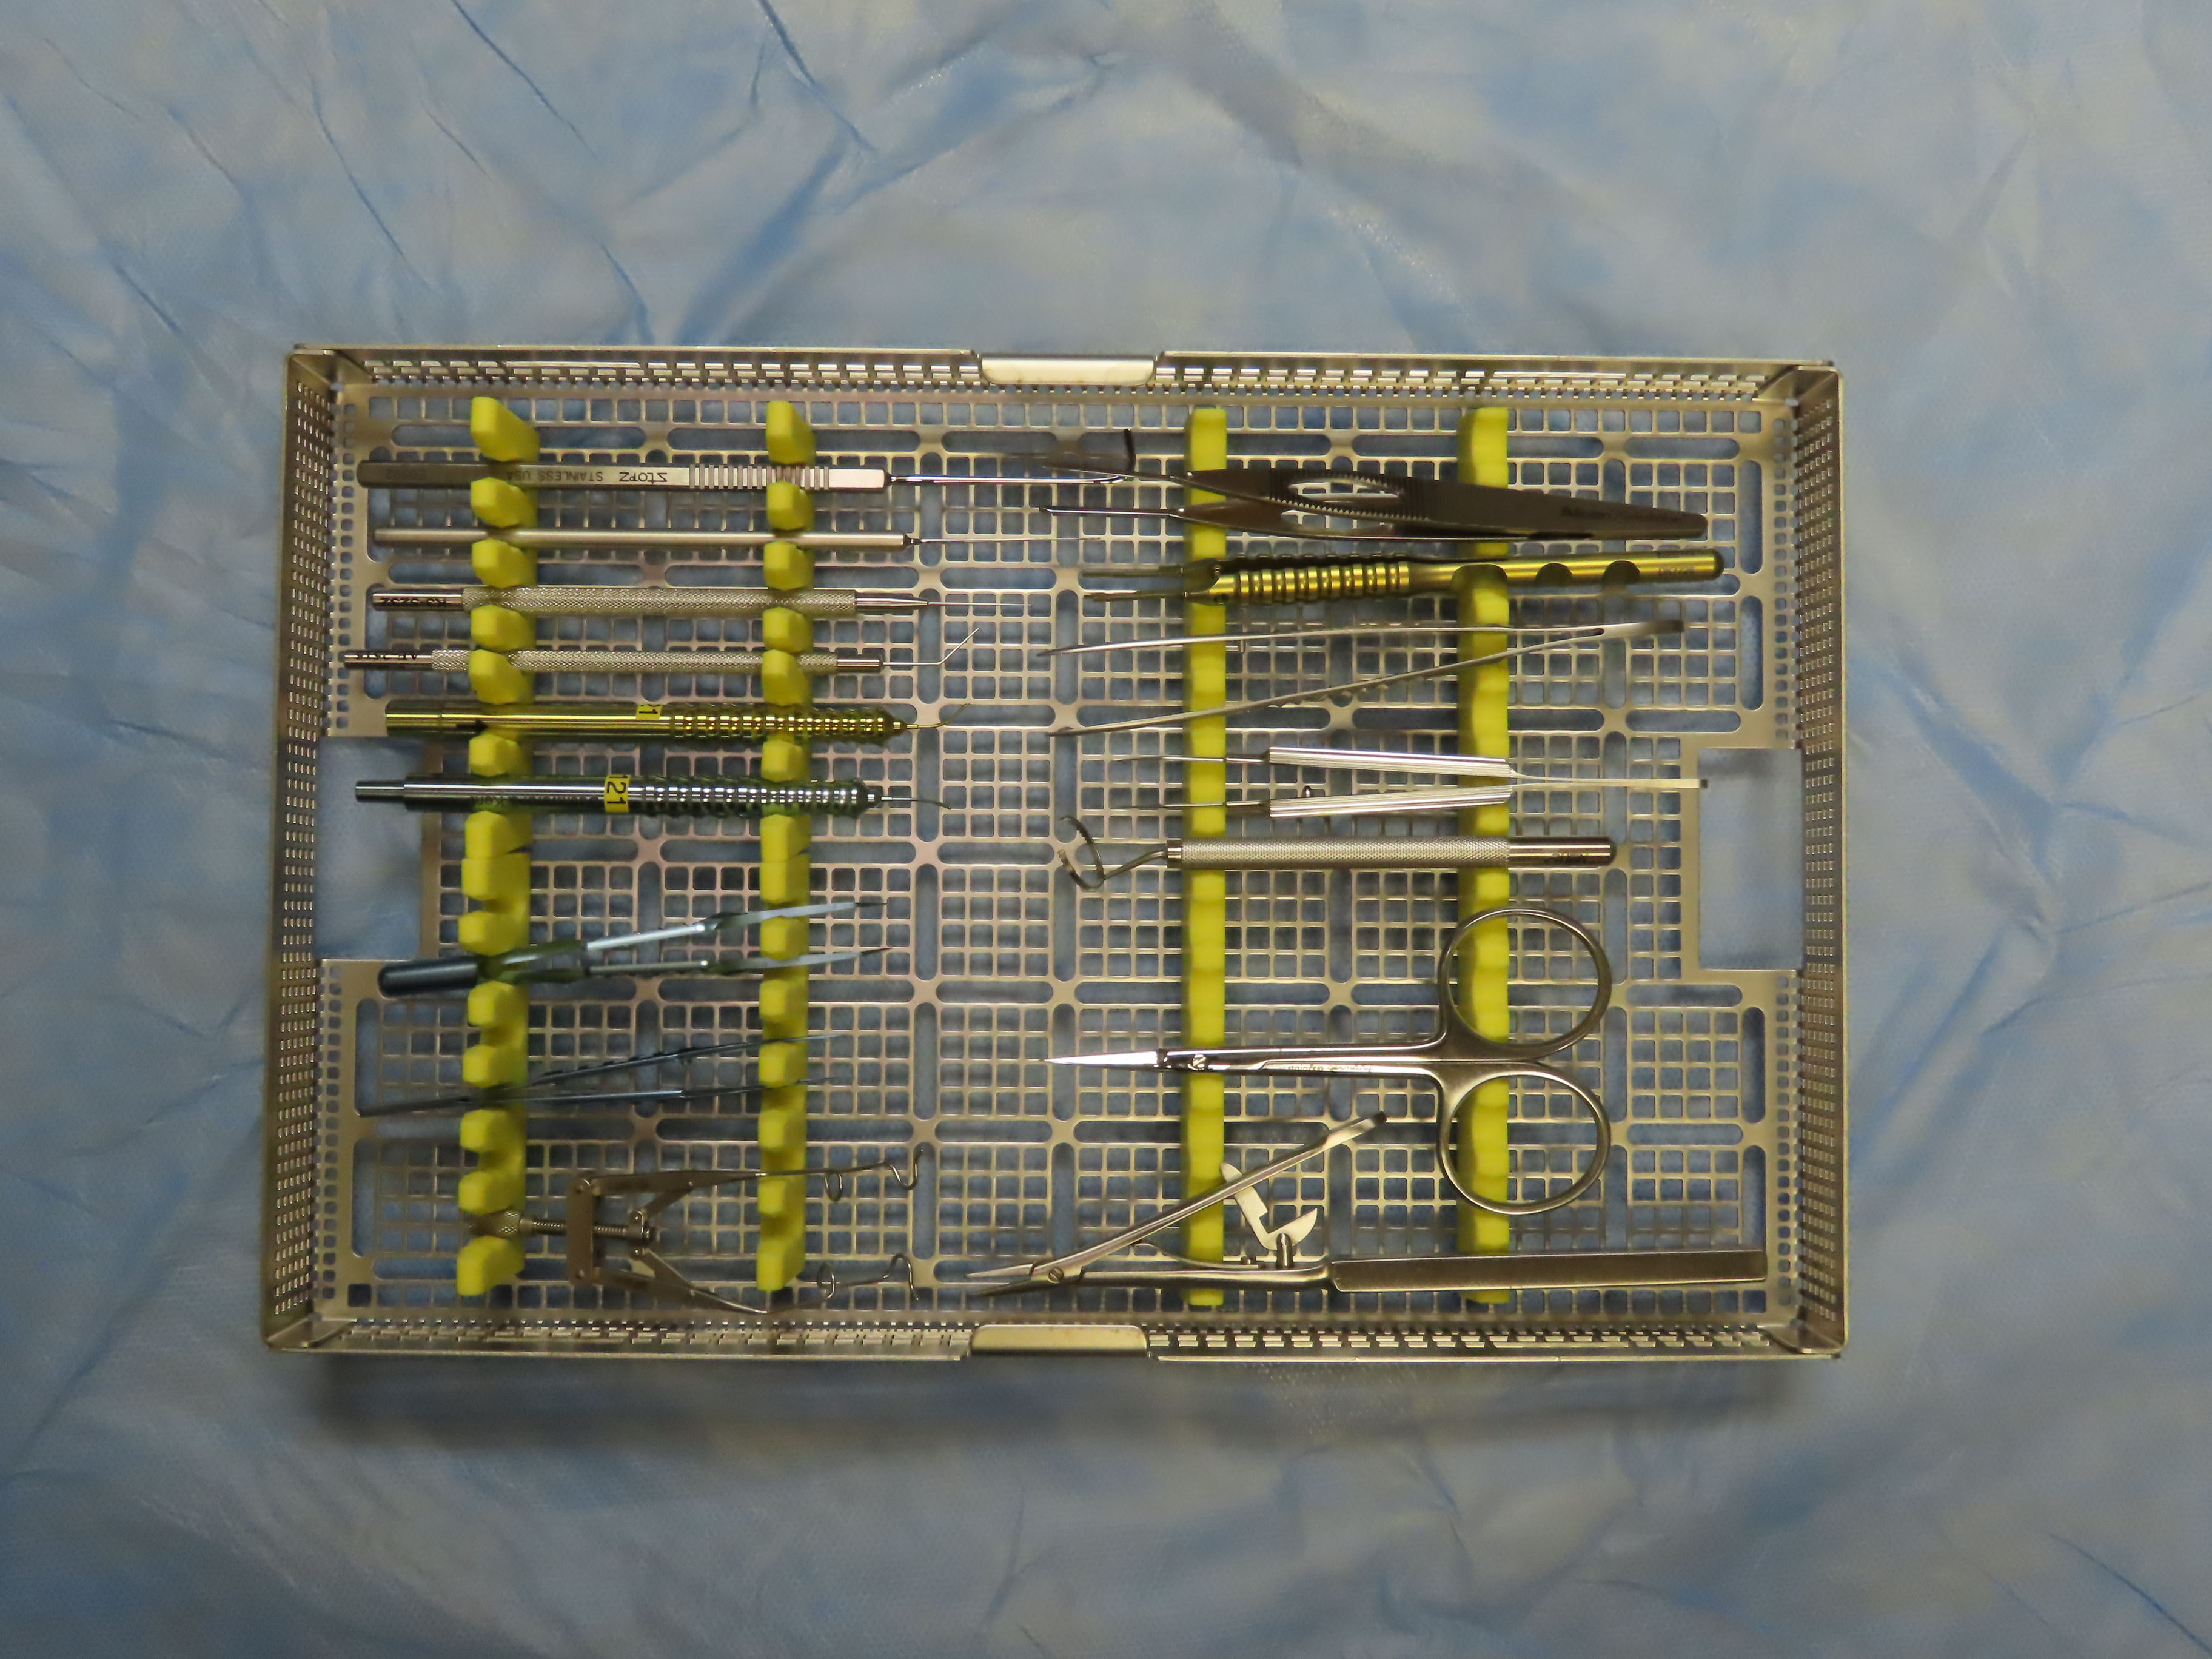Chopper: (336, 613, 989, 694)
Dressing Forceps: (1026, 603, 1719, 746), (1015, 434, 1721, 538)
Fixation Ring: (1050, 802, 1634, 892)
Handpiece: (350, 758, 960, 829), (380, 687, 984, 749)
Hook Surgical: (354, 416, 1155, 504), (366, 570, 1035, 624)
Iris Scissors: (1042, 908, 1615, 1222)
Needle Holder: (960, 1112, 1787, 1310)
Spatula Surgical: (362, 511, 1096, 565)
Speculum: (449, 1131, 934, 1305)
Tissue Forceps: (373, 875, 902, 1011), (350, 1012, 843, 1133), (1069, 537, 1738, 617), (1103, 746, 1724, 817)
